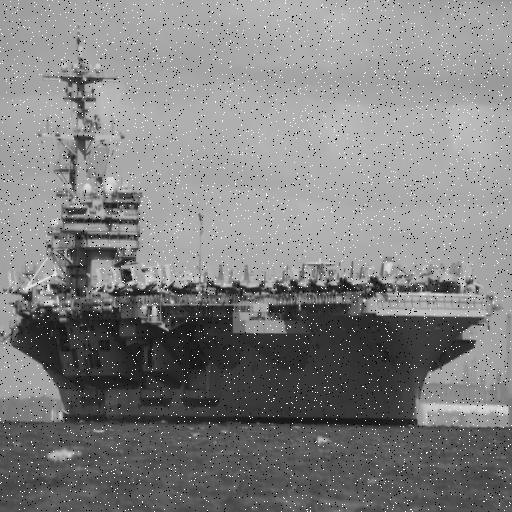Portanaves: (1, 22, 502, 426)
